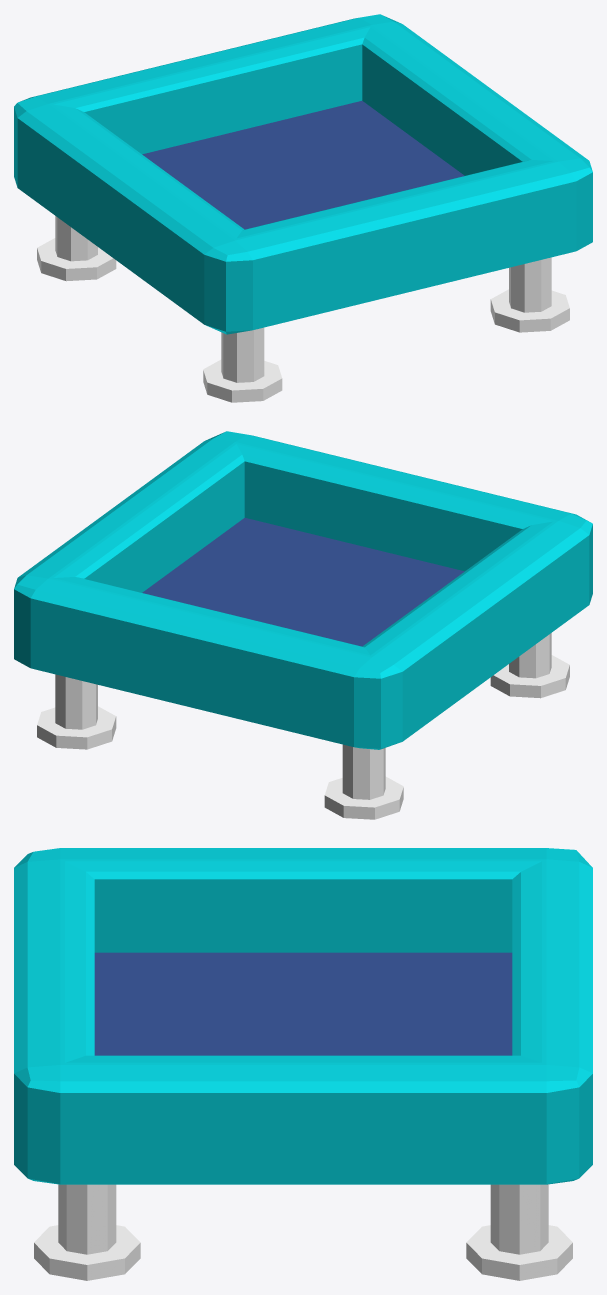
The picture shows the model from 3 angles, top to bottom: view 1: azimuth 30°, elevation 25°; view 2: azimuth 150°, elevation 25°; view 3: azimuth 270°, elevation 25°; orthographic projection. The views are drawn at different scales.
Parts seen in each view (by area): view 1: Box; view 2: Box; view 3: Box.
Part boxes in pixels (x1,y1,x2,y2): Box: (14, 14, 592, 402); Box: (14, 431, 592, 819); Box: (14, 848, 592, 1280).
Size of the model in its own units: 200 by 200 by 78.13.
